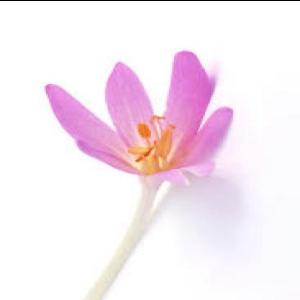Saffron: (44, 49, 236, 189)
